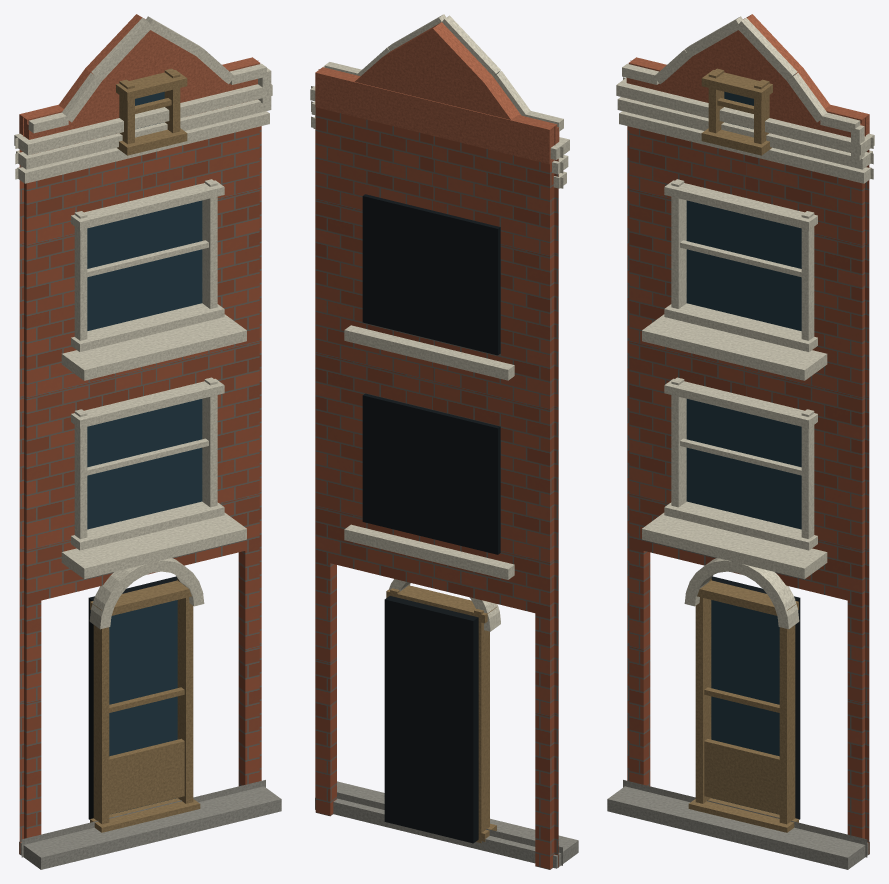
Rendered from VICT14_lod2.glb.
3 renders of one model, left to right at view 1: azimuth 30°, elevation 25°; view 2: azimuth 150°, elevation 25°; view 3: azimuth 330°, elevation 25°, orthographic.
Parts seen in each view (by area): view 1: VICT14_FRONT_LOD2; view 2: VICT14_FRONT_LOD2; view 3: VICT14_FRONT_LOD2.
Boxes of the visible parts, x1,y1,x2,y2 form: VICT14_FRONT_LOD2: (14, 14, 281, 869); VICT14_FRONT_LOD2: (310, 14, 578, 869); VICT14_FRONT_LOD2: (607, 14, 874, 869).
Bounding box in the file's own units: 3.44 × 10.65 × 0.85.
8 materials, 6 textured.
